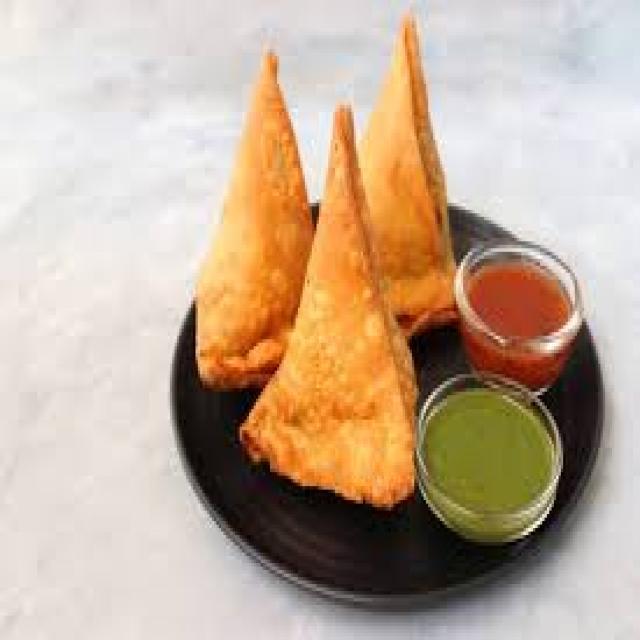SAMOSA: (240, 108, 414, 504), (195, 52, 312, 381), (361, 14, 449, 332)
